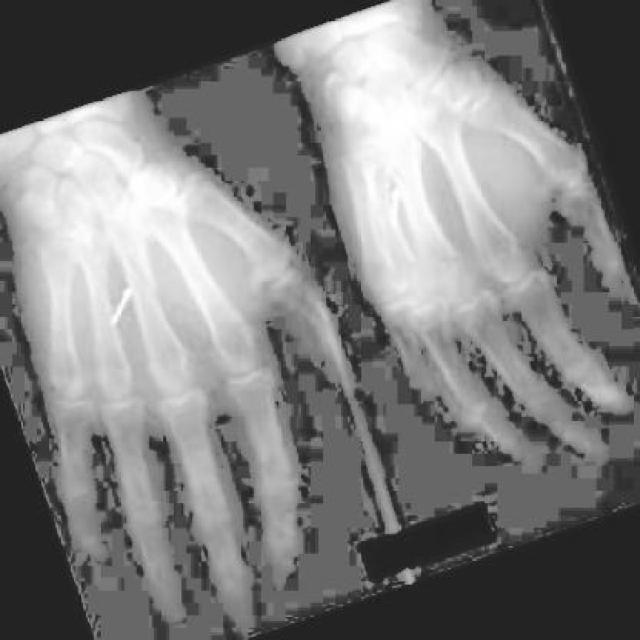Fracture: (98, 235, 173, 320), (378, 151, 436, 222)
